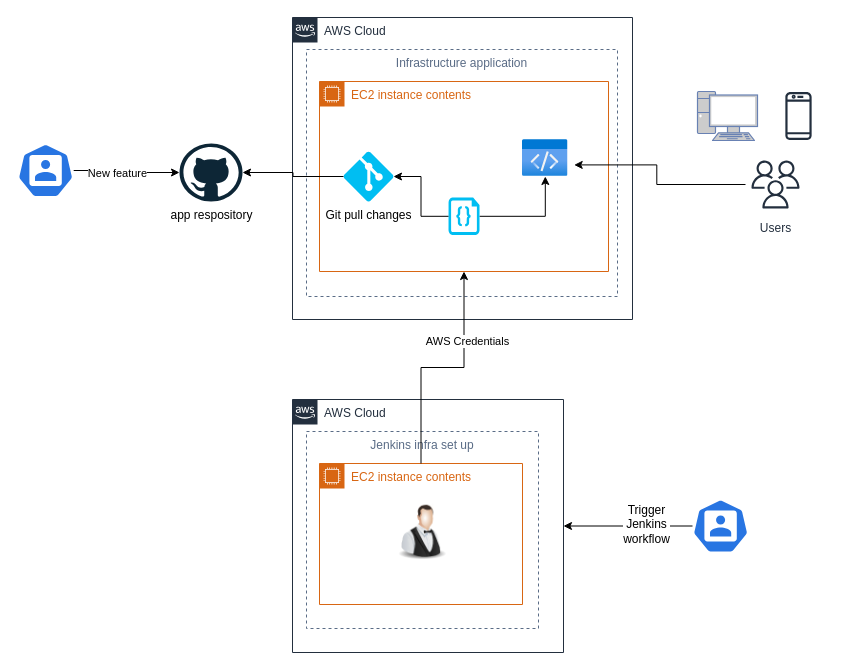
This 846x670 diagram has some shape labels left out. The shapes that lost their labels are listed below. From the top down, each one's centre as x and y in pixels, then its label:
the point at 45,170: Developer
the point at 545,157: Application
the point at 463,215: Jenkinsfile
the point at 422,529: Jenkins server
the point at 720,525: Devop
